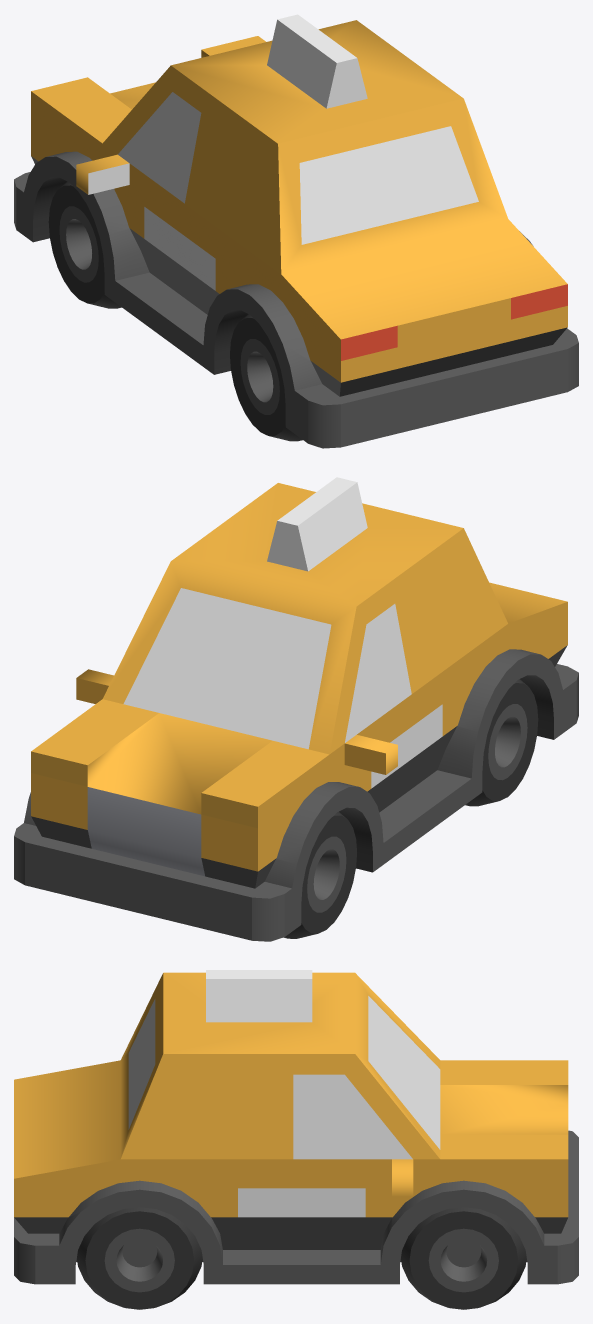
Rendered from taxi.gltf.
3 views of the same model, one above another, from view 1: azimuth 30°, elevation 25°; view 2: azimuth 150°, elevation 25°; view 3: azimuth 270°, elevation 25° (orthographic). The views are drawn at different scales.
Visible parts, largest first — view 1: body, wheel_backLeft, wheel_frontLeft; view 2: body, wheel_backLeft, wheel_frontLeft; view 3: body, wheel_backRight, wheel_frontRight.
Boxes of the visible parts, x1,y1,x2,y2 form: body: [14, 14, 578, 448]; wheel_backLeft: [230, 314, 302, 441]; wheel_frontLeft: [48, 181, 121, 308]; body: [14, 477, 578, 941]; wheel_backLeft: [465, 679, 538, 806]; wheel_frontLeft: [284, 811, 356, 938]; body: [14, 970, 578, 1284]; wheel_backRight: [77, 1207, 202, 1309]; wheel_frontRight: [401, 1207, 526, 1309].
Bounding box in the file's own units: 1.5 × 1.5 × 2.65.
